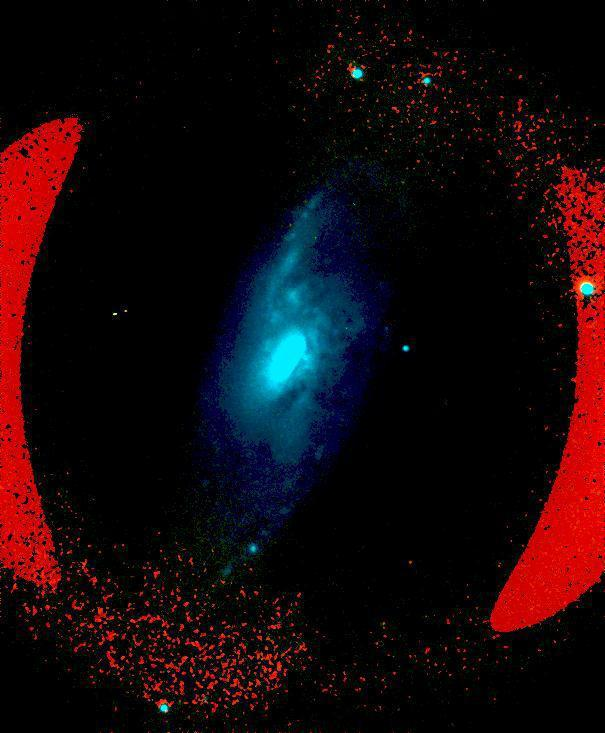star: (395, 546, 425, 576)
